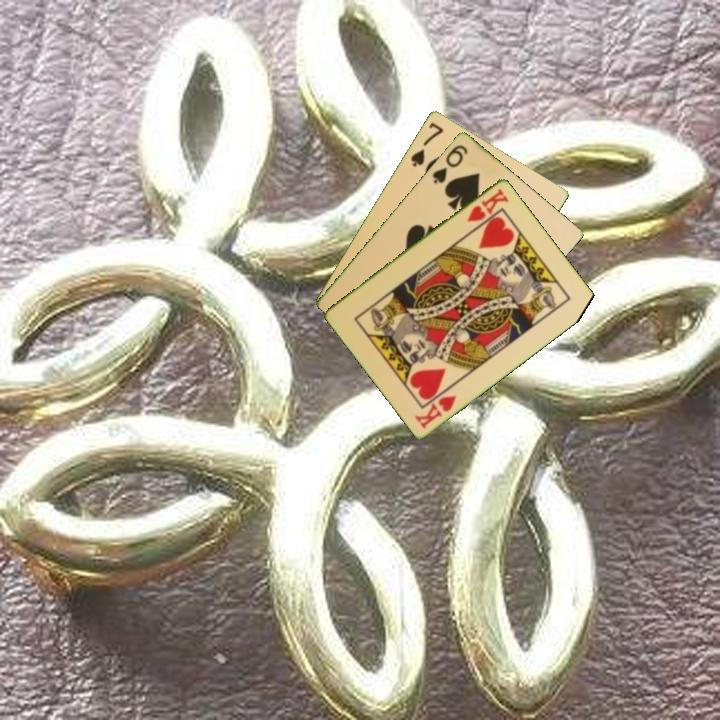6s: (428, 141, 471, 186)
7s: (407, 118, 446, 170)
Kh: (463, 184, 512, 225), (411, 391, 459, 432)
